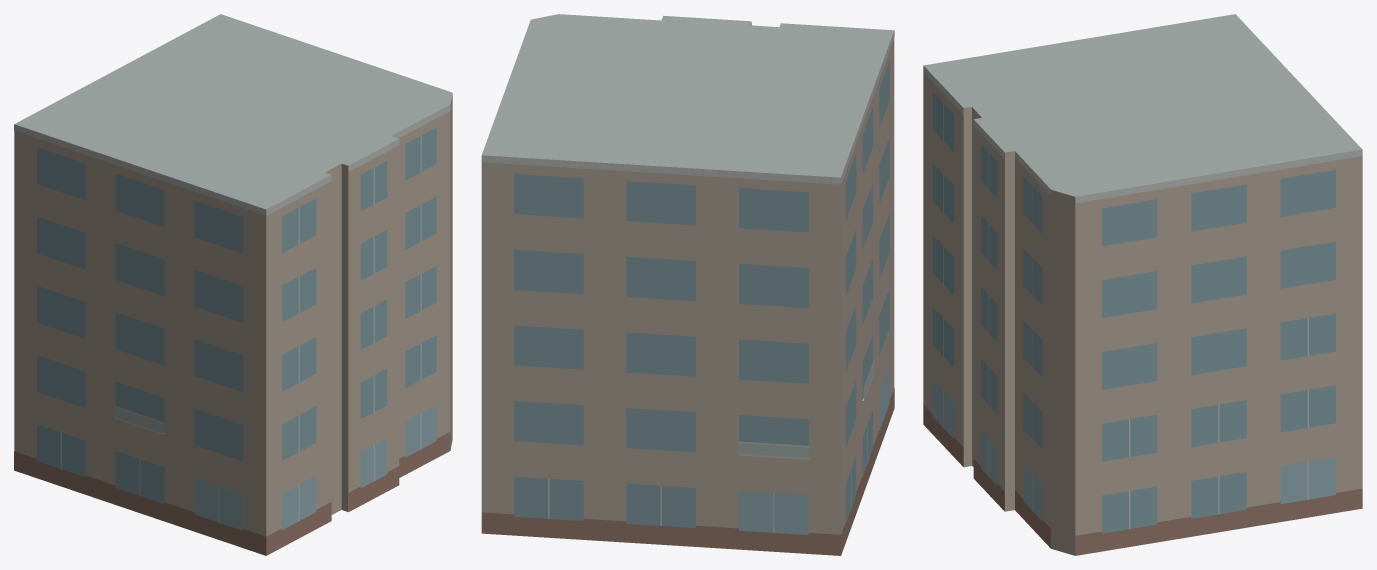
File: survey-upis-32834842.glb
The picture shows the model from 3 angles, left to right: view 1: azimuth 30°, elevation 25°; view 2: azimuth 150°, elevation 25°; view 3: azimuth 270°, elevation 25°; orthographic projection. The views are drawn at different scales.
Parts seen in each view (by area): view 1: survey-upis-32834842.tmp; view 2: survey-upis-32834842.tmp; view 3: survey-upis-32834842.tmp.
Boxes of the visible parts, x1,y1,x2,y2 form: survey-upis-32834842.tmp: [14, 14, 452, 555]; survey-upis-32834842.tmp: [481, 14, 894, 555]; survey-upis-32834842.tmp: [923, 14, 1362, 555].
Bounding box in the file's own units: 14.42 × 13.2 × 14.64.
